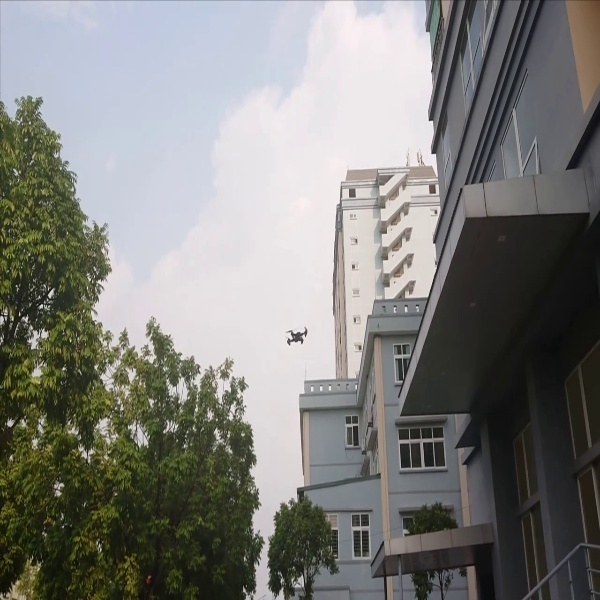drone: (278, 317, 314, 349)
